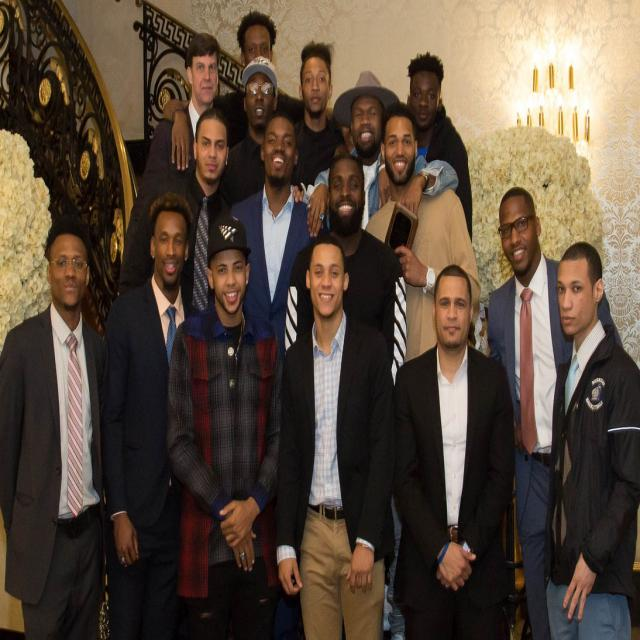body: (482, 182, 625, 639), (162, 208, 286, 639), (274, 229, 398, 640), (388, 259, 522, 639), (0, 214, 119, 639), (98, 188, 201, 640), (541, 241, 640, 639), (364, 102, 482, 388), (161, 9, 355, 176), (116, 30, 236, 297), (282, 150, 409, 391), (302, 65, 460, 240), (229, 109, 330, 362), (133, 104, 234, 324), (407, 50, 473, 249), (220, 54, 301, 208), (292, 38, 346, 190)
